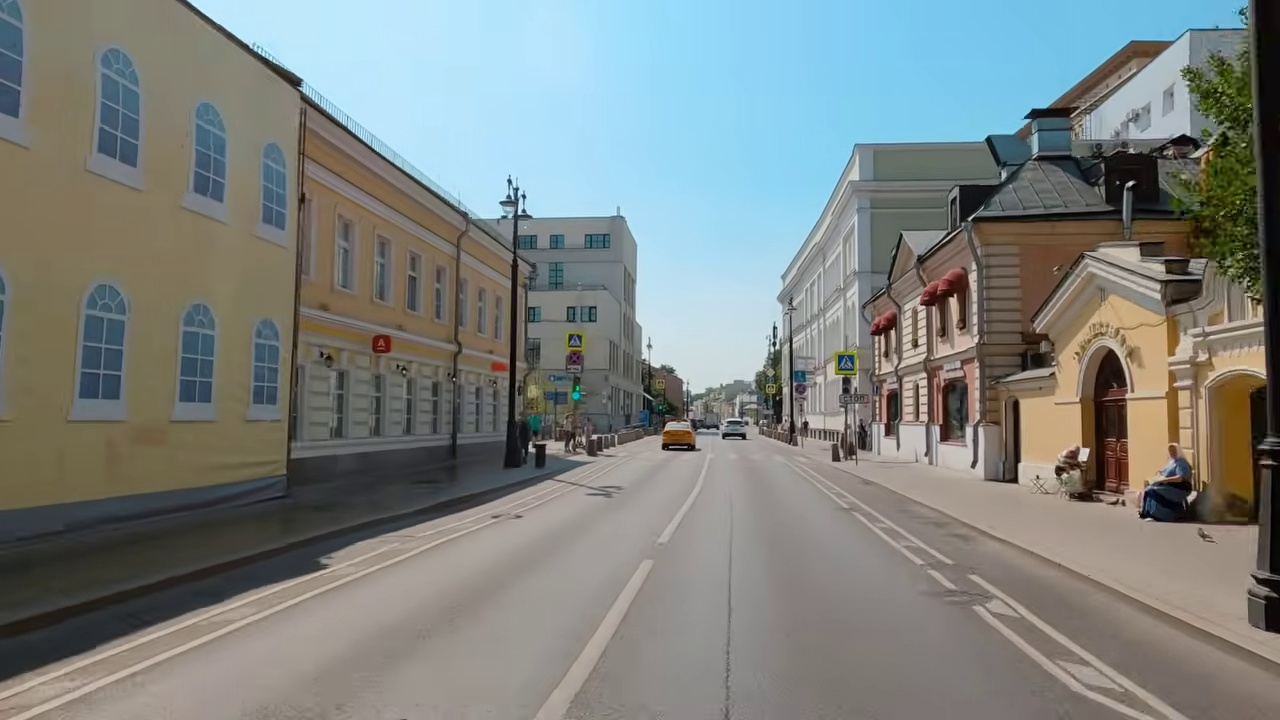apagada: (494, 181, 533, 224)
